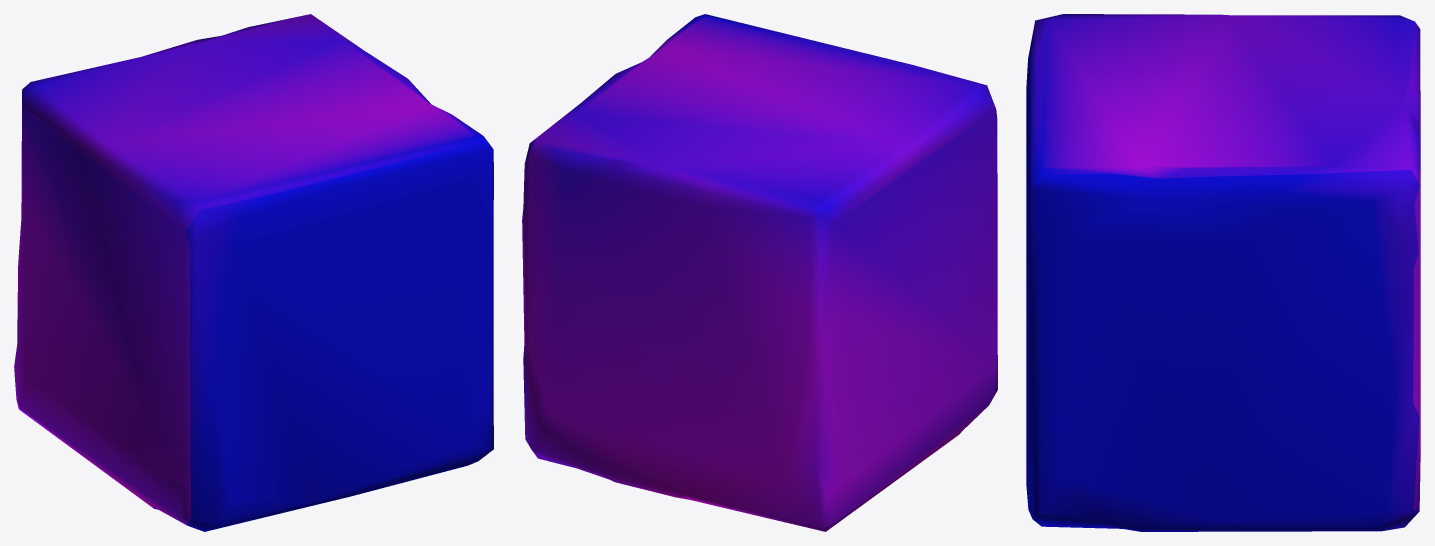
The model's file is SM_Block_A_Small.FBX.
3 views of the same model, side by side, from view 1: azimuth 30°, elevation 25°; view 2: azimuth 150°, elevation 25°; view 3: azimuth 270°, elevation 25° (orthographic). The views are drawn at different scales.
Visible parts, largest first — view 1: SM_Block_A_Small; view 2: SM_Block_A_Small; view 3: SM_Block_A_Small.
Part boxes in pixels (bbox=[...]): SM_Block_A_Small: bbox=[14, 14, 493, 531]; SM_Block_A_Small: bbox=[522, 14, 997, 531]; SM_Block_A_Small: bbox=[1026, 14, 1420, 531].
Size of what is drawn, in the model's own units: 100 by 99.91 by 101.
